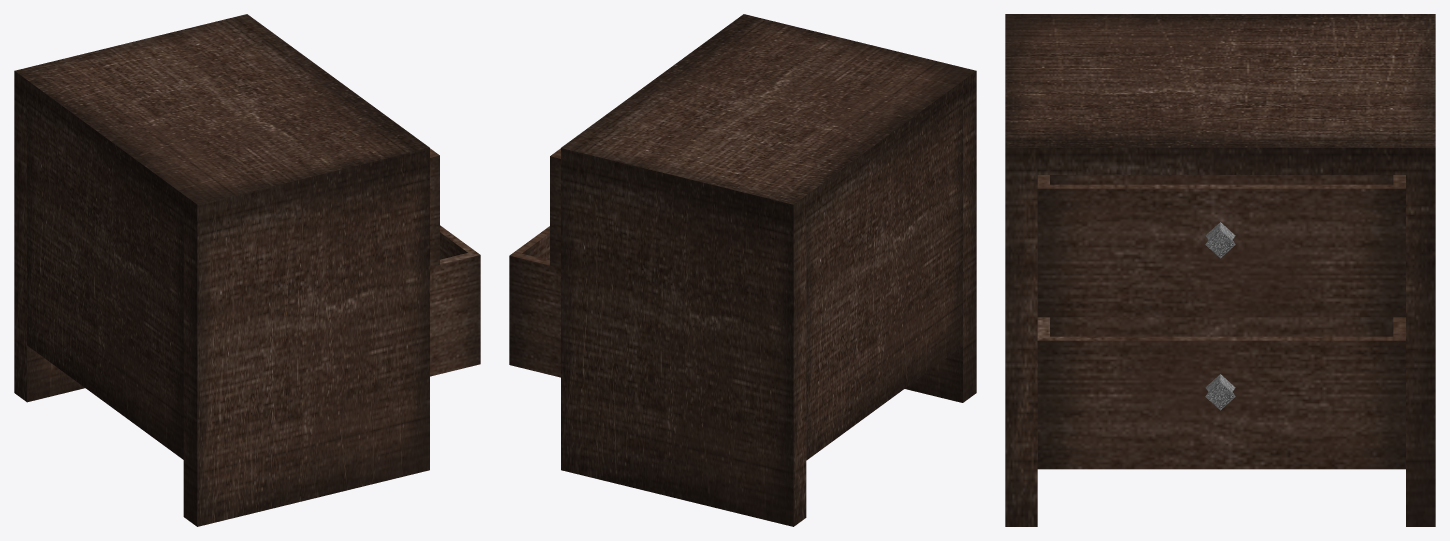
3 views of the same model, side by side, from view 1: azimuth 30°, elevation 25°; view 2: azimuth 150°, elevation 25°; view 3: azimuth 270°, elevation 25° (orthographic). The views are drawn at different scales.
Visible parts, largest first — view 1: Bedside_table, Bedside_table_box_2, Bedside_table_box_1; view 2: Bedside_table, Bedside_table_box_2, Bedside_table_box_1; view 3: Bedside_table, Bedside_table_box_2, Bedside_table_box_1.
Boxes of the visible parts, bbox=[...] form: Bedside_table: bbox=[14, 14, 429, 526]; Bedside_table_box_2: bbox=[430, 225, 480, 376]; Bedside_table_box_1: bbox=[430, 148, 439, 267]; Bedside_table: bbox=[561, 14, 976, 526]; Bedside_table_box_2: bbox=[509, 226, 560, 377]; Bedside_table_box_1: bbox=[550, 148, 560, 267]; Bedside_table: bbox=[1005, 14, 1435, 526]; Bedside_table_box_2: bbox=[1037, 317, 1405, 469]; Bedside_table_box_1: bbox=[1037, 175, 1405, 317].
Size of the model in its own units: 161 by 159 by 164.
Materials: 1 (1 with a texture image).
